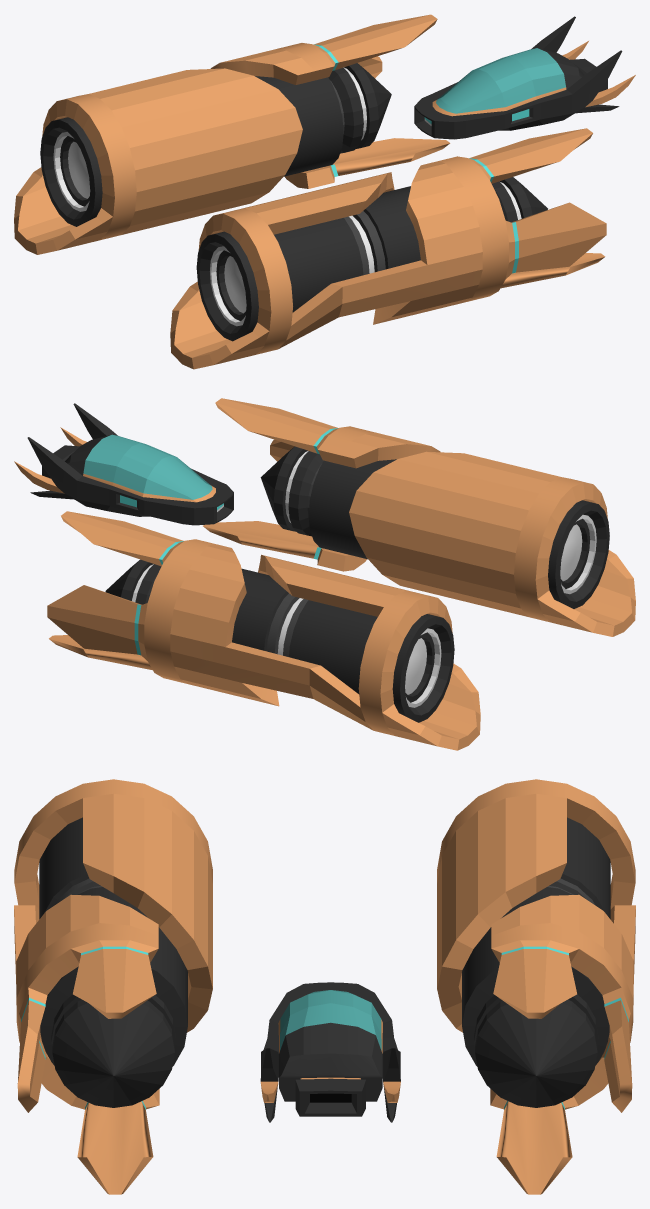
Rendered from sulha.fbx.
3 views of the same model, one above another, from view 1: azimuth 30°, elevation 25°; view 2: azimuth 150°, elevation 25°; view 3: azimuth 270°, elevation 25° (orthographic). The views are drawn at different scales.
Parts seen in each view (by area): view 1: polySurface1, polySurface3; view 2: polySurface1, polySurface3; view 3: polySurface1, polySurface3.
Part boxes in pixels (x1,y1,x2,y2): polySurface1: [14, 14, 606, 369]; polySurface3: [414, 16, 635, 139]; polySurface1: [47, 398, 635, 750]; polySurface3: [14, 403, 233, 525]; polySurface1: [14, 779, 635, 1194]; polySurface3: [260, 982, 400, 1122].
Size of the model in its own units: 73.15 by 20.64 by 57.11.
